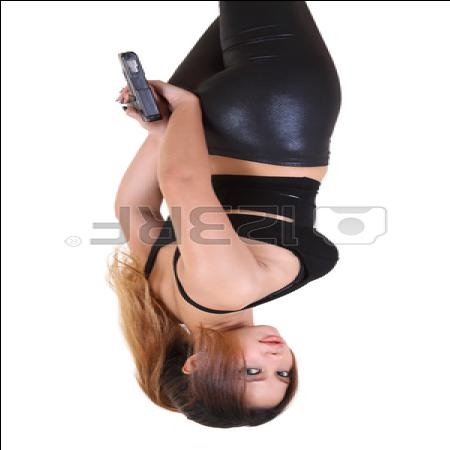Pistol: (118, 50, 166, 124)
